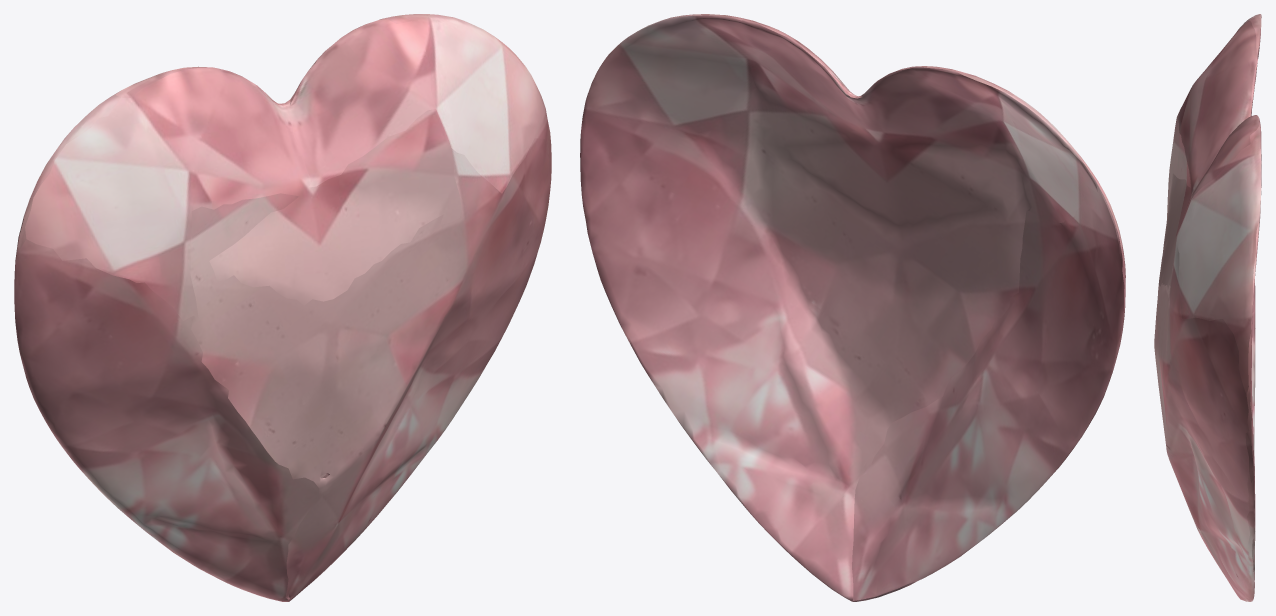
3 renders of one model, left to right at view 1: azimuth 30°, elevation 25°; view 2: azimuth 150°, elevation 25°; view 3: azimuth 270°, elevation 25°, orthographic. The views are drawn at different scales.
Parts seen in each view (by area): view 1: geometry_0; view 2: geometry_0; view 3: geometry_0.
Boxes of the visible parts, box(x1,y1,x2,y2) form: geometry_0: box(14, 14, 551, 601); geometry_0: box(580, 14, 1125, 601); geometry_0: box(1154, 14, 1261, 601).
Bounding box in the file's own units: 1 × 0.9862 × 0.1844.
1 material, 1 textured.
